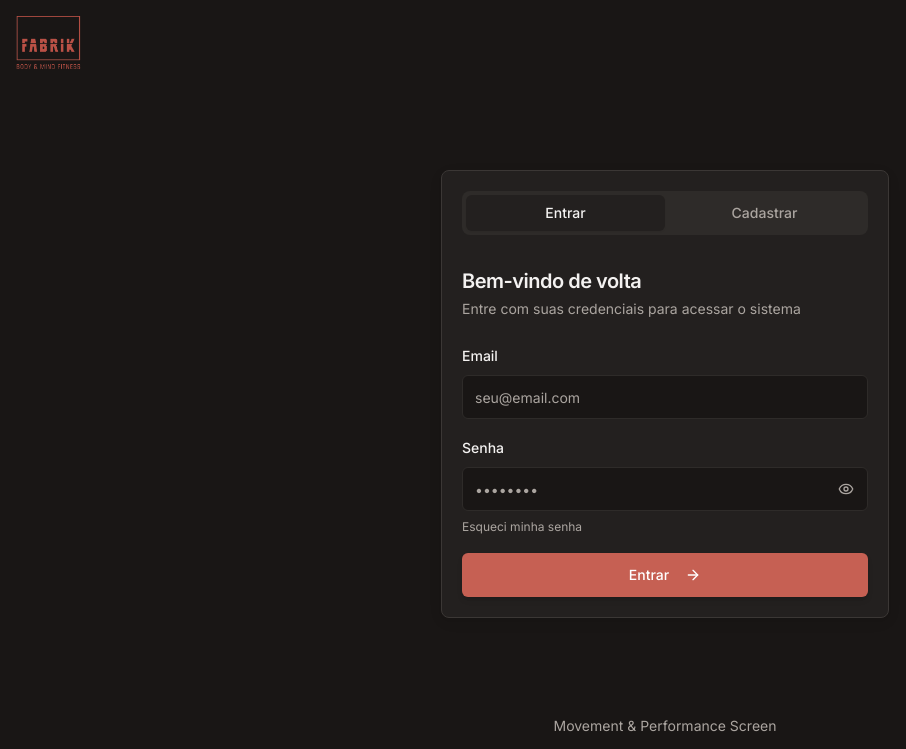
it: Esqueci minha senha (Auth) › e-mail inválido: não envia
Click the button "Esqueci minha senha": (522, 527) [462,519,582,535]
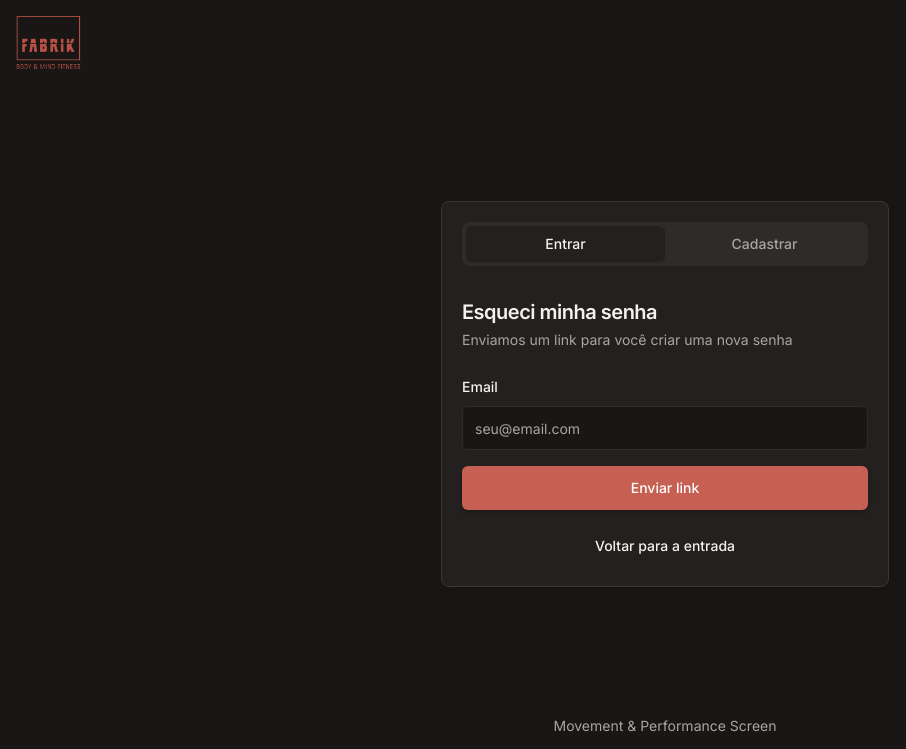
In the field labelled "Email": (665, 428) [462,406,868,450], type "nao-e-email"
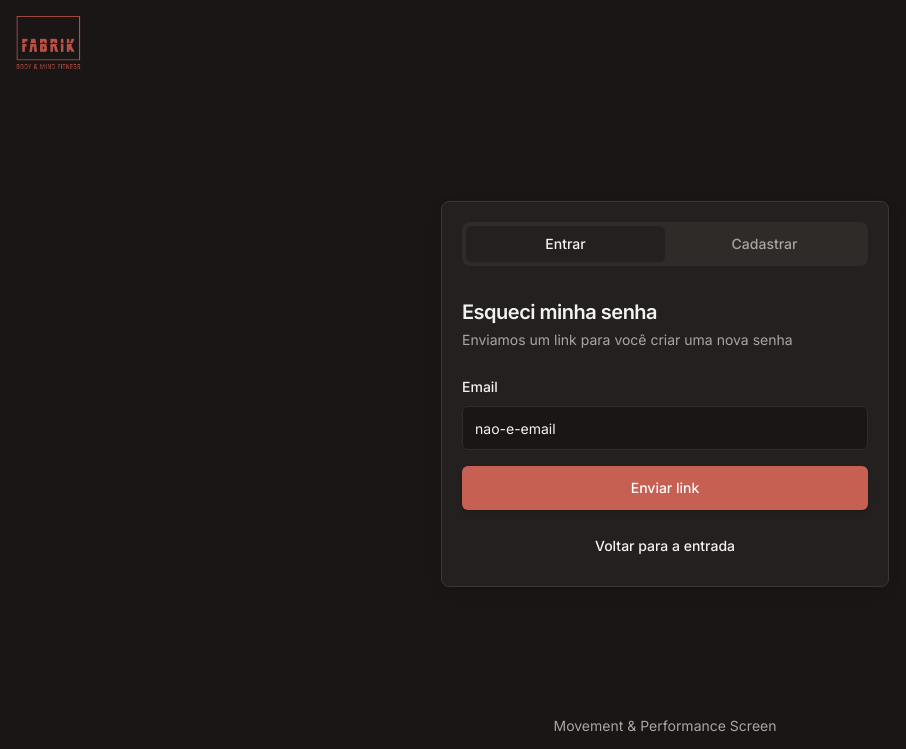
Submit the form labelled "Email", box [462,374,868,510]
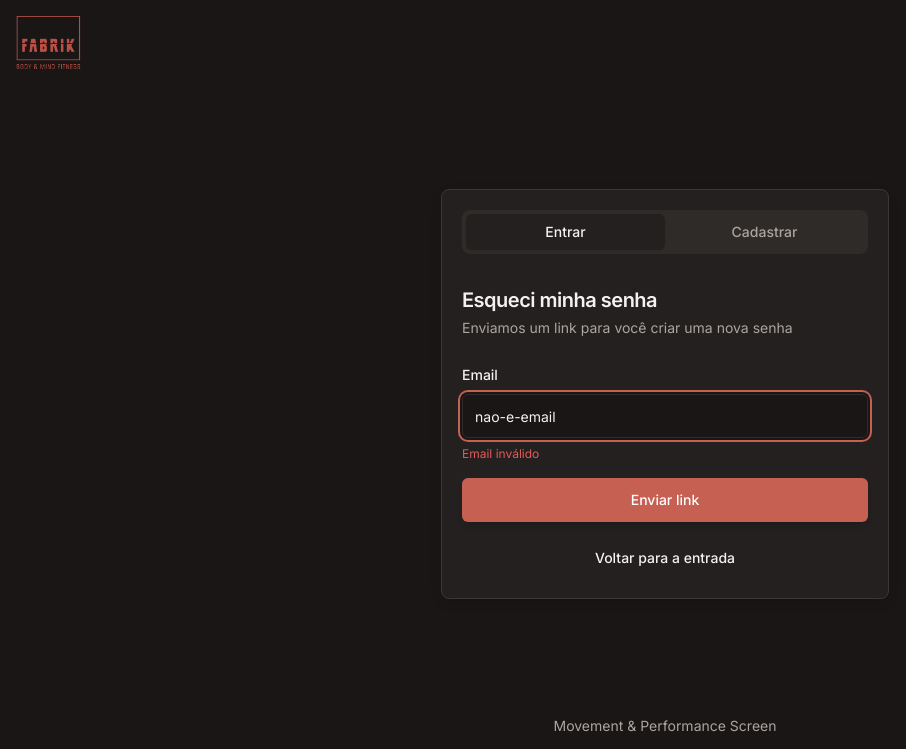
Result: the text "Email inválido" is shown at [462,446,539,461]
